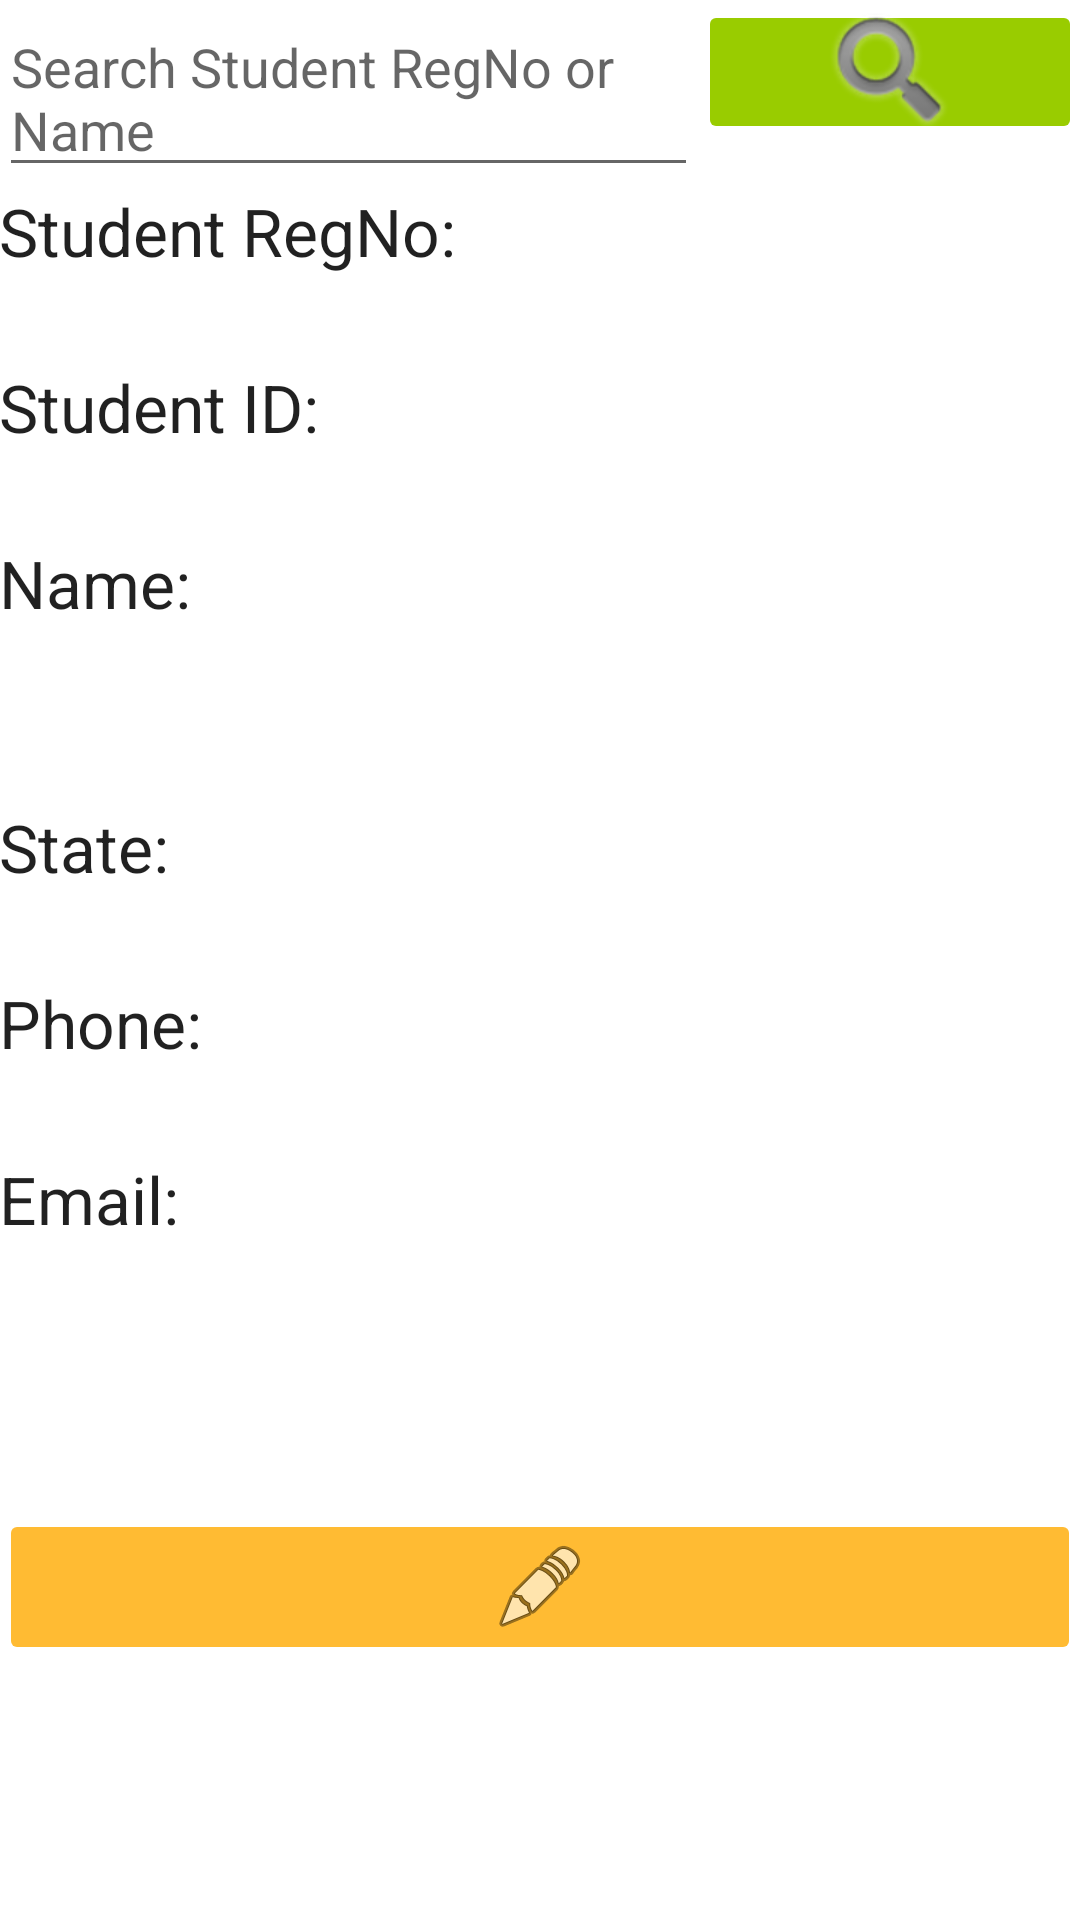

Screen size 1080px x 1920px. Icon name, then its center in pixels as (x=x, y=y):
search category: (x=890, y=71)
